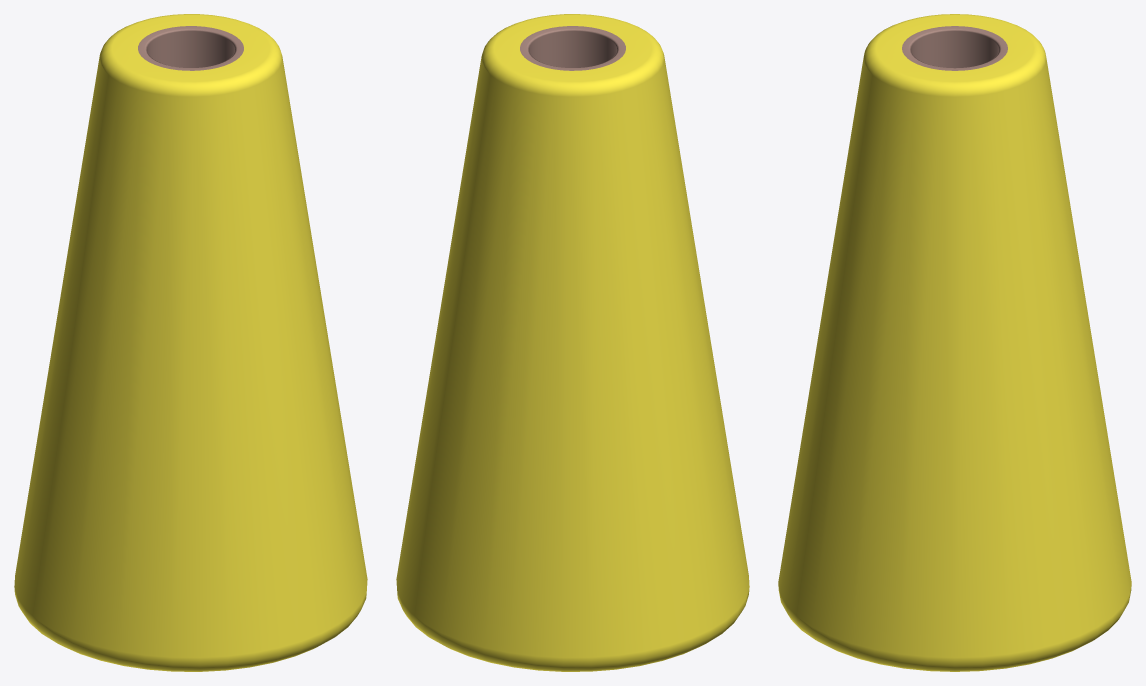
File: Public_19_Big_Skein_of_thread_1.glb
The picture shows the model from 3 angles, left to right: view 1: azimuth 30°, elevation 25°; view 2: azimuth 150°, elevation 25°; view 3: azimuth 270°, elevation 25°; orthographic projection.
Visible parts, largest first — view 1: Public_19_Big_Skein_of_thread_1; view 2: Public_19_Big_Skein_of_thread_1; view 3: Public_19_Big_Skein_of_thread_1.
Boxes of the visible parts, box(x1,y1,x2,y2) form: Public_19_Big_Skein_of_thread_1: box(14, 14, 367, 671); Public_19_Big_Skein_of_thread_1: box(396, 14, 749, 671); Public_19_Big_Skein_of_thread_1: box(778, 14, 1131, 671).
Bounding box in the file's own units: 1.05 × 1.82 × 1.05.
1 material, 1 textured.
